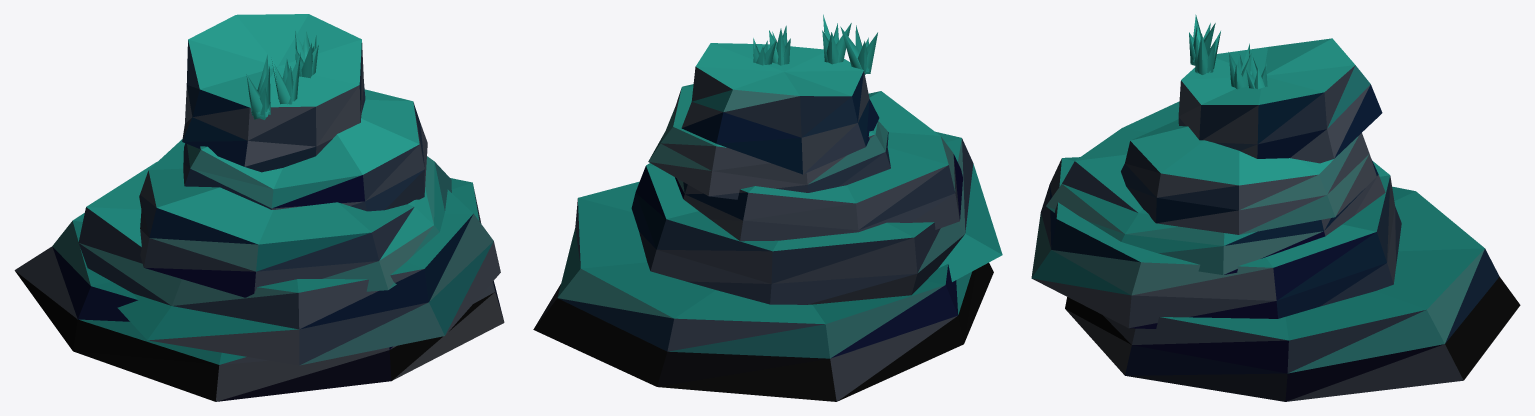
The model's file is batu_slate_basalt_858247.glb.
The picture shows the model from 3 angles, left to right: view 1: azimuth 30°, elevation 25°; view 2: azimuth 150°, elevation 25°; view 3: azimuth 270°, elevation 25°; orthographic projection. The views are drawn at different scales.
Visible parts, largest first — view 1: Batu_Pipih_Bertumpuk; view 2: Batu_Pipih_Bertumpuk; view 3: Batu_Pipih_Bertumpuk.
Boxes of the visible parts, x1,y1,x2,y2 form: Batu_Pipih_Bertumpuk: (14, 14, 504, 401); Batu_Pipih_Bertumpuk: (533, 14, 1002, 401); Batu_Pipih_Bertumpuk: (1031, 14, 1520, 401).
Bounding box in the file's own units: 4.87 × 3.18 × 5.28.
